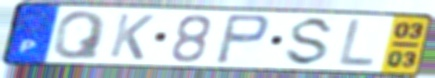8: (170, 13, 213, 64)
K: (106, 12, 157, 62)
L: (335, 17, 378, 70)
P: (213, 13, 272, 67)
Q: (50, 10, 109, 61)
S: (281, 15, 339, 68)
